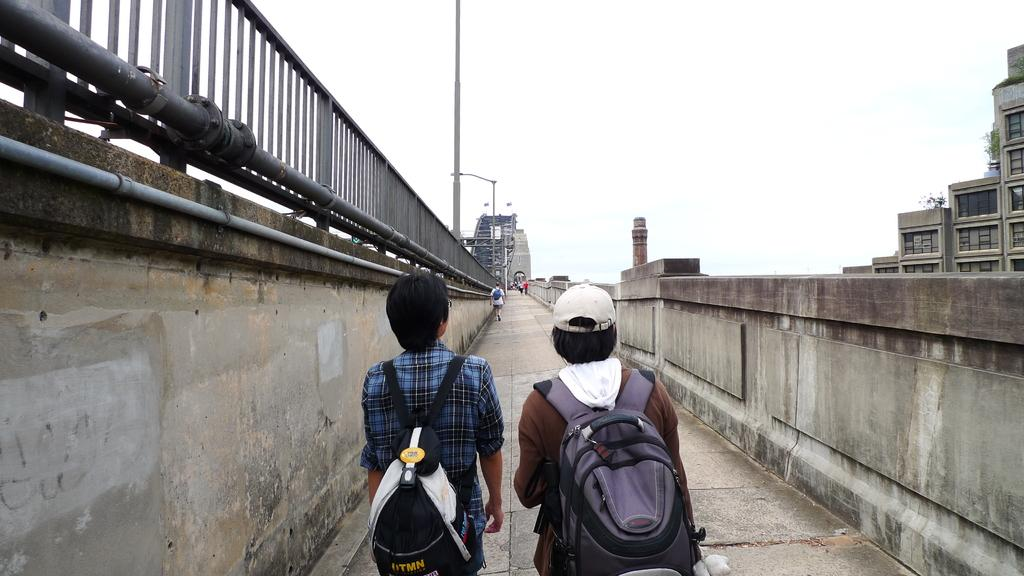Luggage-and-bags: (530, 398, 694, 564), (369, 356, 481, 575)
